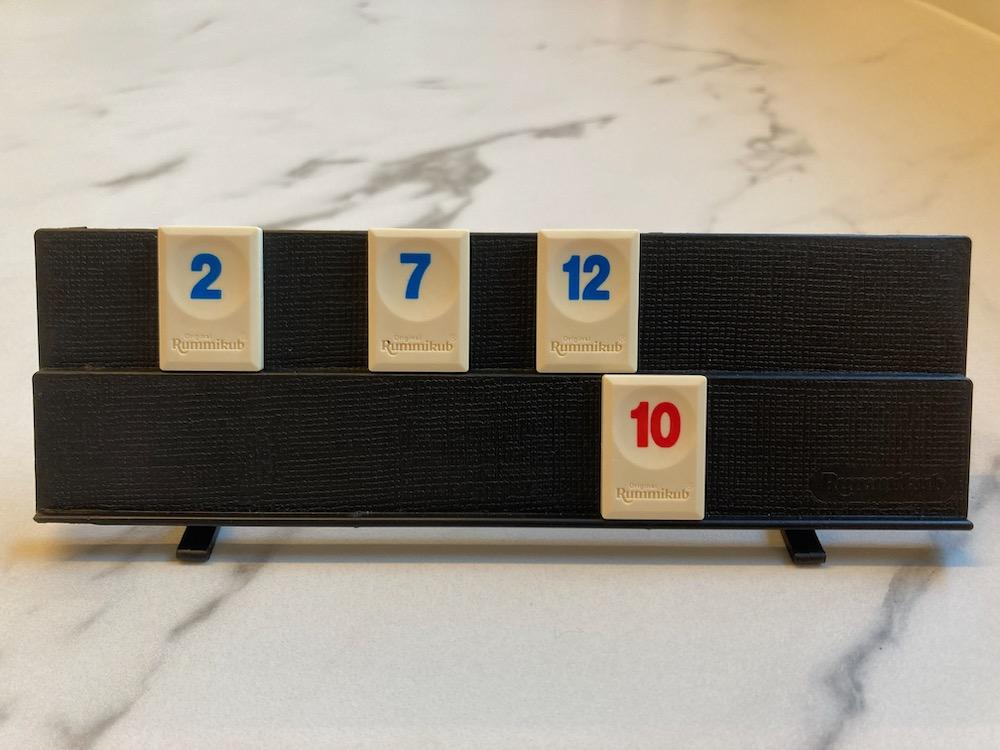blue_12: (537, 230, 639, 373)
blue_2: (160, 227, 264, 371)
blue_7: (369, 229, 469, 371)
red_10: (602, 375, 707, 520)
